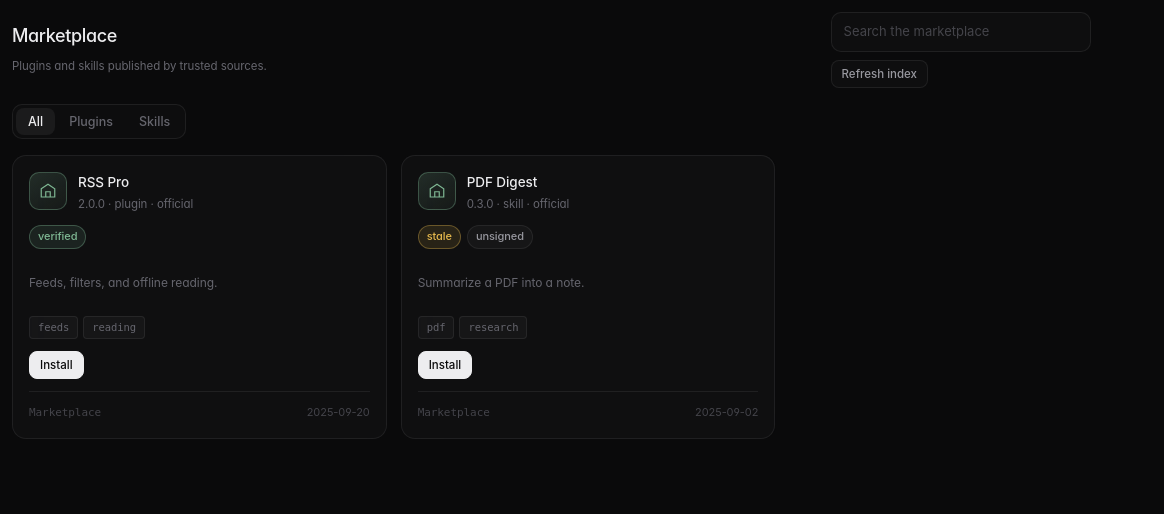
it: MarketplaceView › explains that skill entries install from Settings → Skills
Expected: the text "PDF Digest" is shown, [467,174,537,190]
Click the button "Install" below "research": (445, 365) [418,351,472,379]
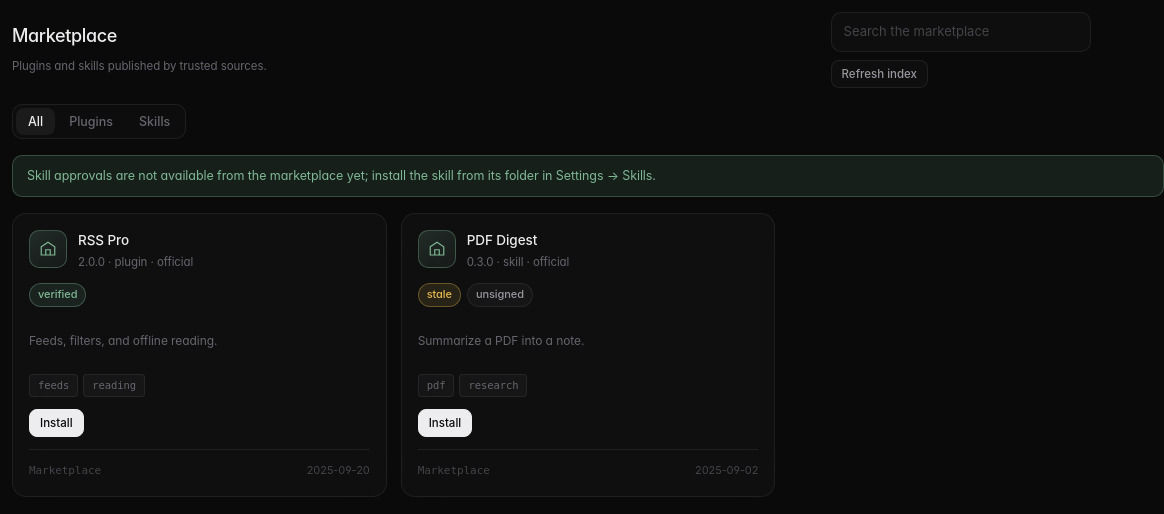
Expected: the text "Skill approvals are not available from the marketplace yet; install the skill from its folder in Settings → Skills." is shown, [27,168,656,182]
